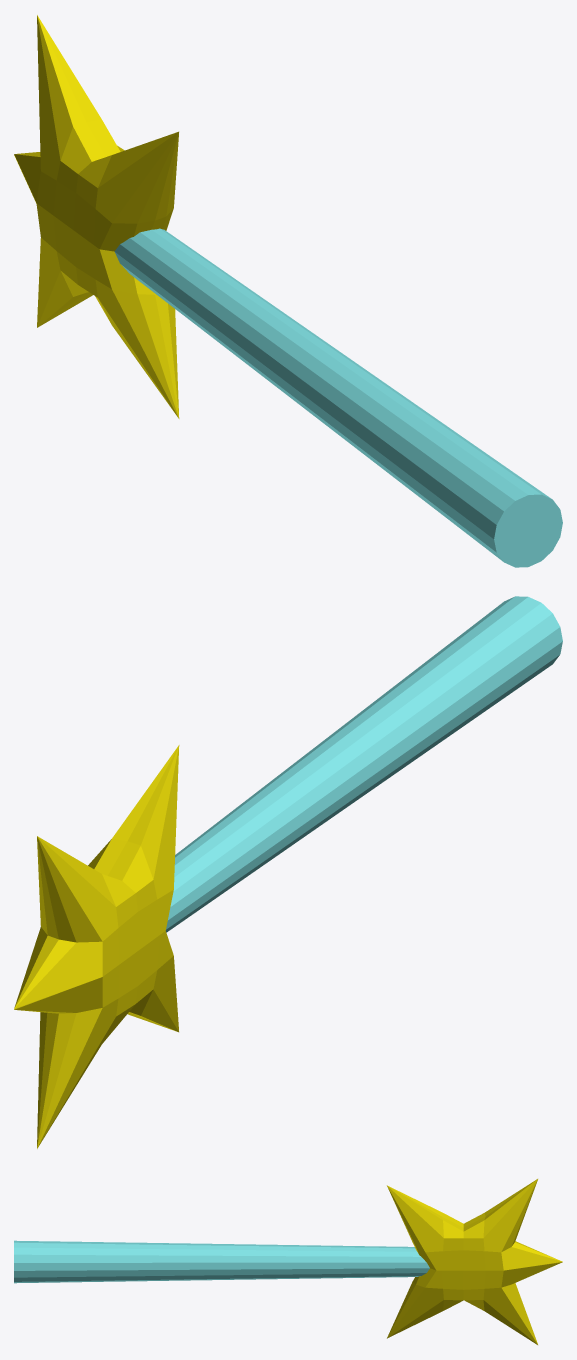
Rendered from varita.fbx.
3 views of the same model, one above another, from view 1: azimuth 30°, elevation 25°; view 2: azimuth 150°, elevation 25°; view 3: azimuth 270°, elevation 25° (orthographic). The views are drawn at different scales.
Parts seen in each view (by area): view 1: Cylinder; view 2: Cylinder; view 3: Cylinder.
Boxes of the visible parts, x1,y1,x2,y2 form: Cylinder: (14, 15, 562, 567); Cylinder: (14, 596, 562, 1148); Cylinder: (14, 1179, 562, 1344).
Bounding box in the file's own units: 184 × 14.24 × 61.94.
